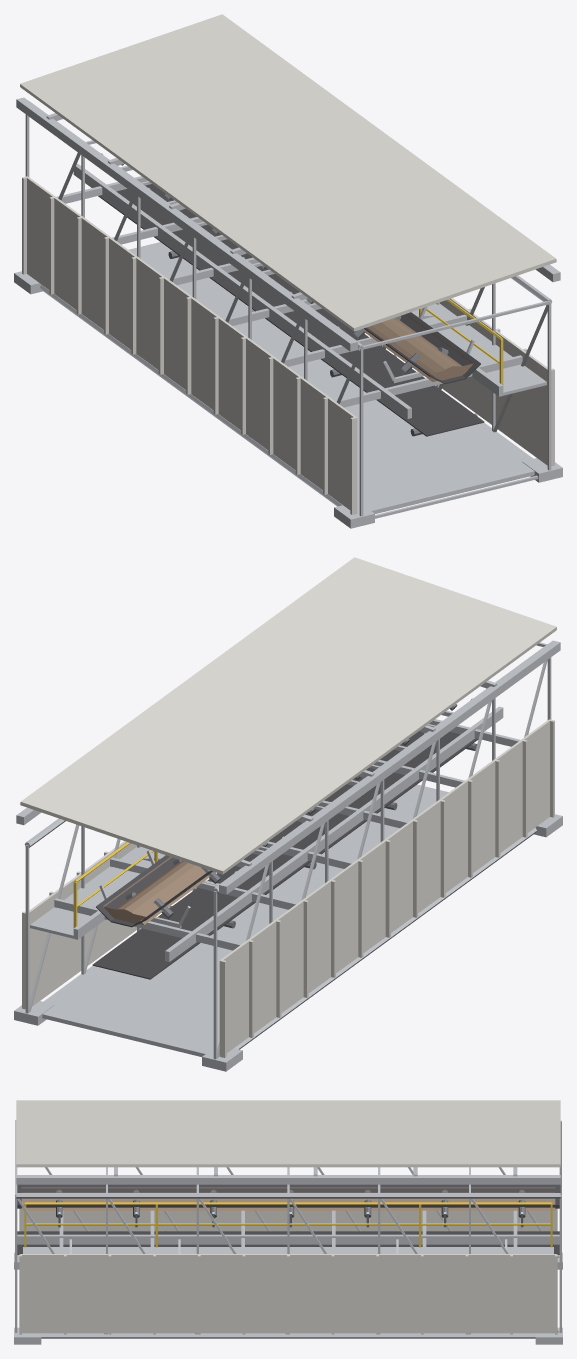
The model's file is ore-processing-and-haulage-plant-conveyor-gallery-brid-99b770ba.glb.
3 renders of one model, top to bottom at view 1: azimuth 30°, elevation 25°; view 2: azimuth 150°, elevation 25°; view 3: azimuth 270°, elevation 25°, orthographic. The views are drawn at different scales.
Visible parts, largest first — view 1: conveyor-gallery-bridge; view 2: conveyor-gallery-bridge; view 3: conveyor-gallery-bridge.
Part boxes in pixels (x1=…): conveyor-gallery-bridge: x1=14, y1=14, x2=562, y2=528; conveyor-gallery-bridge: x1=14, y1=557, x2=562, y2=1071; conveyor-gallery-bridge: x1=14, y1=1100, x2=562, y2=1344.
Bounding box in the file's own units: 4.4 × 4.33 × 12.1.
